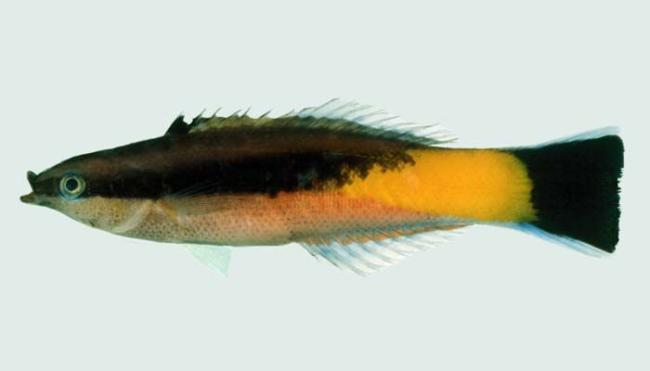fish: (20, 98, 626, 278)
